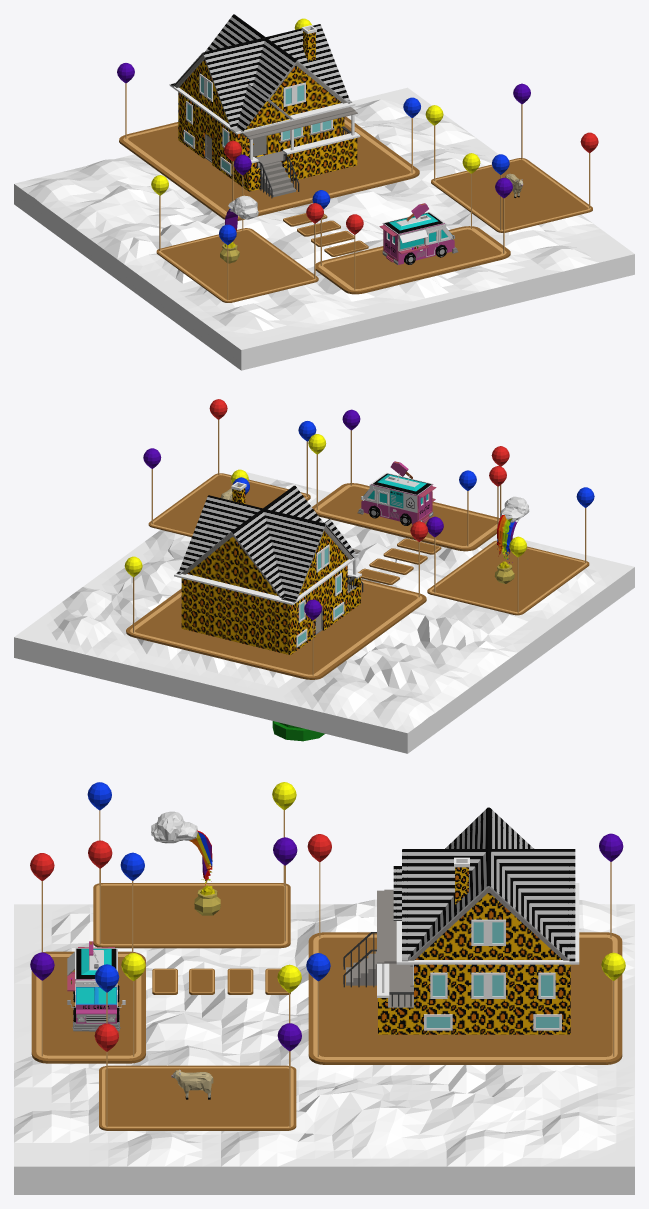
3 views of the same model, one above another, from view 1: azimuth 30°, elevation 25°; view 2: azimuth 150°, elevation 25°; view 3: azimuth 270°, elevation 25° (orthographic). The views are drawn at different scales.
Visible parts, largest first — view 1: Cube.013, Cube.637, VEHICLES_ICE_CREAM_TRUCK, OBJRANDOM_RAINBOW; view 2: Cube.013, Cube.637, VEHICLES_ICE_CREAM_TRUCK, OBJRANDOM_RAINBOW, UNDERGROUND_PIPES; view 3: Cube.013, Cube.637, VEHICLES_ICE_CREAM_TRUCK, OBJRANDOM_RAINBOW, ANIMAL_OVEJA.
Boxes of the visible parts, x1,y1,x2,y2 form: Cube.013: (14,18,634,370); Cube.637: (169,14,360,198); VEHICLES_ICE_CREAM_TRUCK: (379,203,458,264); OBJRANDOM_RAINBOW: (220,195,258,263); Cube.013: (14,399,634,753); Cube.637: (174,482,363,655); VEHICLES_ICE_CREAM_TRUCK: (357,461,436,525); OBJRANDOM_RAINBOW: (494,496,529,583); UNDERGROUND_PIPES: (272,721,324,741); Cube.013: (14,782,634,1194); Cube.637: (343,807,579,1034); VEHICLES_ICE_CREAM_TRUCK: (67,941,125,1031); OBJRANDOM_RAINBOW: (151,811,220,915); ANIMAL_OVEJA: (171,1069,213,1099).
Size of the model in its own units: 4000 by 2271 by 4000.
Materials: 45 (2 with a texture image).
